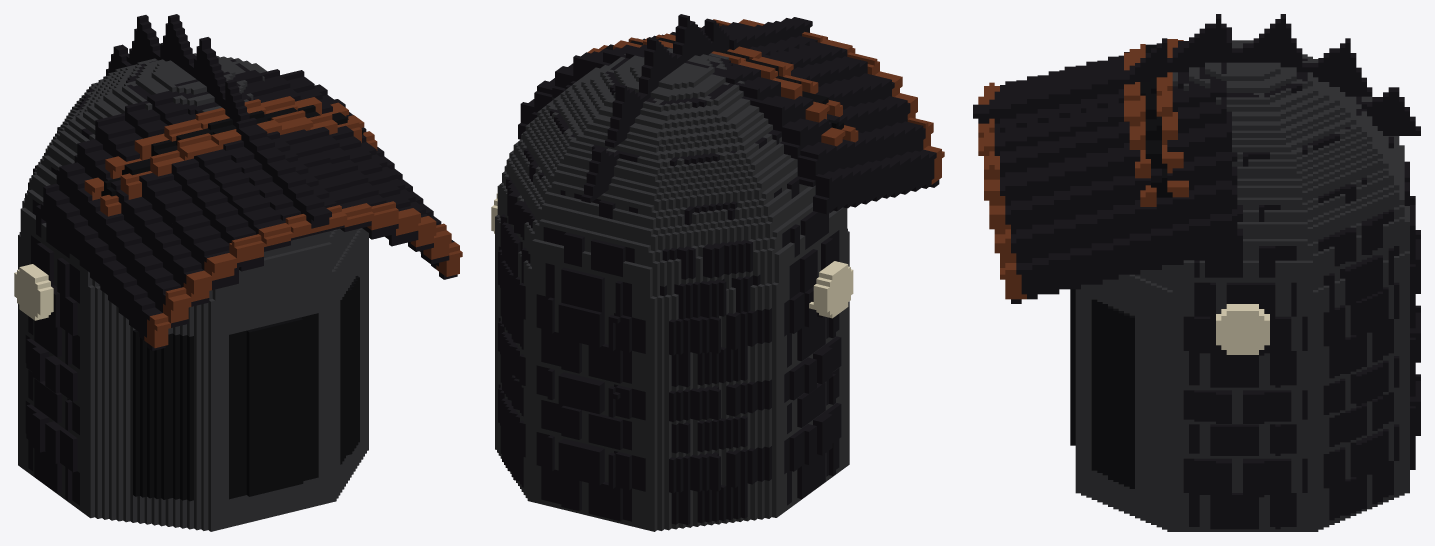
File: helmet_xlblack_dragon_scale_raised.glb
3 renders of one model, left to right at view 1: azimuth 30°, elevation 25°; view 2: azimuth 150°, elevation 25°; view 3: azimuth 270°, elevation 25°, orthographic. The views are drawn at different scales.
Parts seen in each view (by area): view 1: helmet_xlblack_dragon_scale_raised:compound; view 2: helmet_xlblack_dragon_scale_raised:compound; view 3: helmet_xlblack_dragon_scale_raised:compound.
Part boxes in pixels (x1,y1,x2,y2): helmet_xlblack_dragon_scale_raised:compound: (14,14,462,531); helmet_xlblack_dragon_scale_raised:compound: (491,14,944,531); helmet_xlblack_dragon_scale_raised:compound: (973,14,1420,531).
Bounding box in the file's own units: 0.296 × 0.364 × 0.332.
